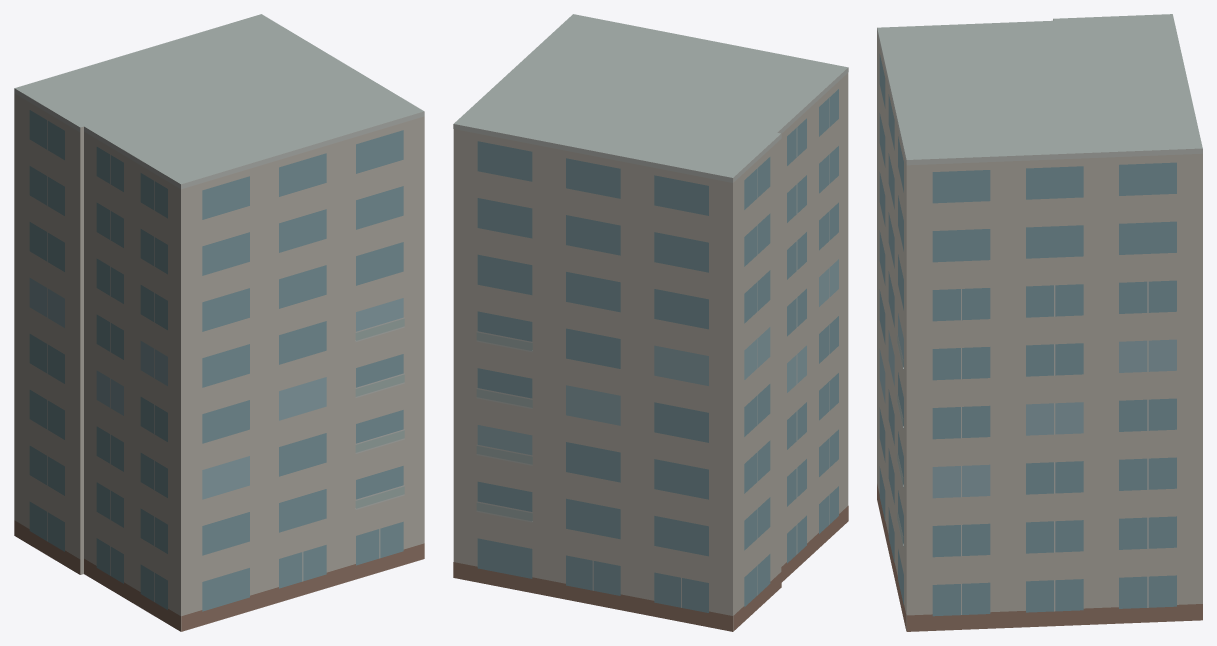
The model's file is survey-upis-32527417.glb.
3 views of the same model, side by side, from view 1: azimuth 30°, elevation 25°; view 2: azimuth 150°, elevation 25°; view 3: azimuth 270°, elevation 25° (orthographic). The views are drawn at different scales.
Parts seen in each view (by area): view 1: survey-upis-32527417.tmp; view 2: survey-upis-32527417.tmp; view 3: survey-upis-32527417.tmp.
Part boxes in pixels (x1,y1,x2,y2): survey-upis-32527417.tmp: (14,14,424,631); survey-upis-32527417.tmp: (453,14,848,631); survey-upis-32527417.tmp: (877,14,1202,631).
Size of the model in its own units: 14.55 by 21.9 by 13.71.
